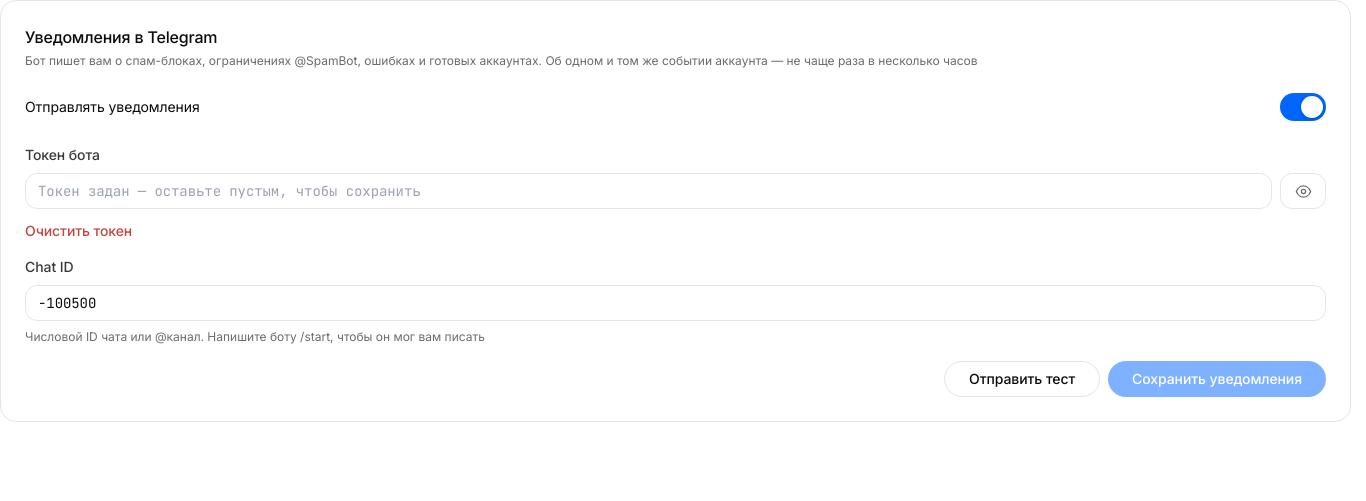
the test button explains a Telegram refusal in place
Step 1. Click the button "Отправить тест" → click(1022, 379), box [944,361,1100,397]
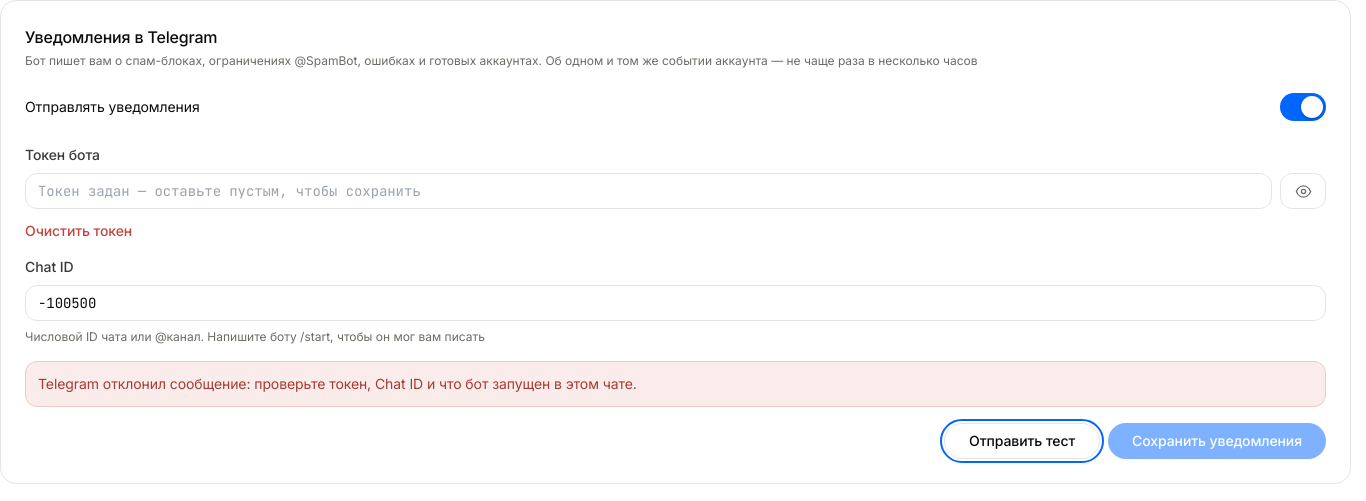
Check: the message shows "Telegram отклонил сообщение", box [38,375,637,392]
